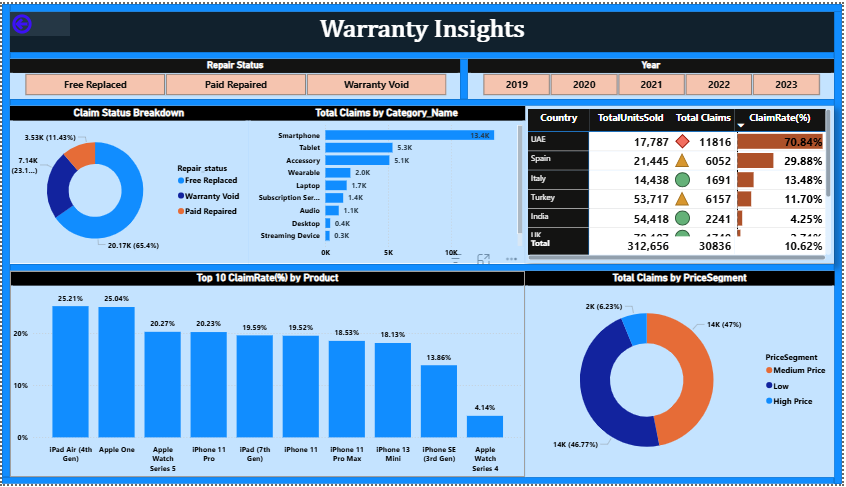

The page's visual inventory and layout, read from the dashboard file:
{"tool":"powerbi","page":{"name":"Warranty Insights","canvas":[1400,800],"ordinal":2},"visuals":[{"type":"donutChart","title":"Claim Status Breakdown","fields":{"Y":["CountNonNull(Warranty.Claim_id)"],"Category":["Warranty.Repair_status"]},"box":[13.1,170.5,396.7,262.3],"z":0},{"type":"textbox","box":[13.1,13.1,1373.8,67.2],"z":1000},{"type":"shape","box":[0,788.5,1386.9,11.5],"z":2000},{"type":"shape","box":[13.1,0,1386.9,13.1],"z":3000},{"type":"shape","box":[1386.9,11.5,13.1,788.5],"z":4000},{"type":"shape","box":[0,0,13.1,788.5],"z":5000},{"type":"slicer","title":"Repair Status","fields":{"Values":["Warranty.Repair_status"]},"box":[13.1,91.8,750.8,67.2],"z":6000},{"type":"slicer","title":"Year","fields":{"Values":["Datetable.Date.Variation.Date Hierarchy.Year"]},"box":[777,91.8,609.8,67.2],"z":7000},{"type":"pivotTable","fields":{"Rows":["Stores.Country"],"Values":["Sales.TotalUnitsSold","Warranty.Total Claims","Warranty.ClaimRate(%)"]},"box":[872.1,170.5,514.8,262.3],"z":8000},{"type":"columnChart","title":"Top 10 ClaimRate(%) by Product","fields":{"Category":["Products.Product_name"],"Y":["Warranty.ClaimRate(%)"]},"box":[12.9,444.3,858.6,344.3],"z":9000},{"type":"clusteredBarChart","fields":{"Category":["Category.Category_Name"],"Y":["Warranty.Total Claims"]},"box":[409.8,170.5,462.3,262.3],"z":10000},{"type":"shape","box":[13.1,80.3,1373.8,11.5],"z":11000},{"type":"shape","box":[13.1,432.8,1373.8,11.5],"z":12000},{"type":"shape","box":[13.1,159,1374,11.5],"z":13000},{"type":"shape","box":[763.9,91.8,13.1,67.2],"z":14000},{"type":"actionButton","box":[13.3,13.3,100,40],"z":15000},{"type":"pieChart","fields":{"Category":["Products.PriceSegment"],"Y":["Warranty.Total Claims"]},"box":[871.4,444.3,515.7,344.3],"z":15001}]}

Visuals, with their boxes in screenshot pixels (x1, y1, x2, y2), scaled from the page's 1400x800 canvas onto the 846x487 screenshot:
"Claim Status Breakdown" donutChart: [8, 104, 248, 263]
textbox: [8, 8, 838, 49]
shape: [0, 480, 838, 486]
shape: [8, 0, 845, 8]
shape: [838, 7, 845, 486]
shape: [0, 0, 8, 480]
"Repair Status" slicer: [8, 56, 462, 97]
"Year" slicer: [470, 56, 838, 97]
pivotTable - Stores.Country x Sales.TotalUnitsSold: [527, 104, 838, 263]
"Top 10 ClaimRate(%) by Product" columnChart: [8, 270, 527, 480]
clusteredBarChart - Category.Category_Name x Warranty.Total Claims: [248, 104, 527, 263]
shape: [8, 49, 838, 56]
shape: [8, 263, 838, 270]
shape: [8, 97, 838, 104]
shape: [462, 56, 470, 97]
actionButton: [8, 8, 68, 32]
pieChart - Products.PriceSegment x Warranty.Total Claims: [527, 270, 838, 480]
